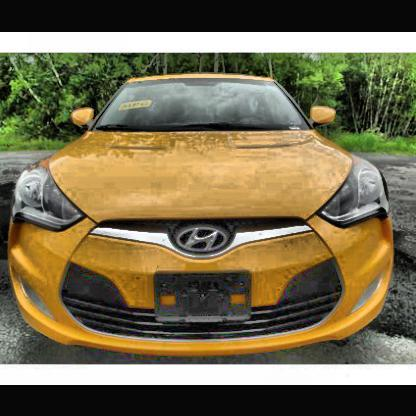Hyundai Veloster Hatchback 2012: (5, 59, 408, 365)
